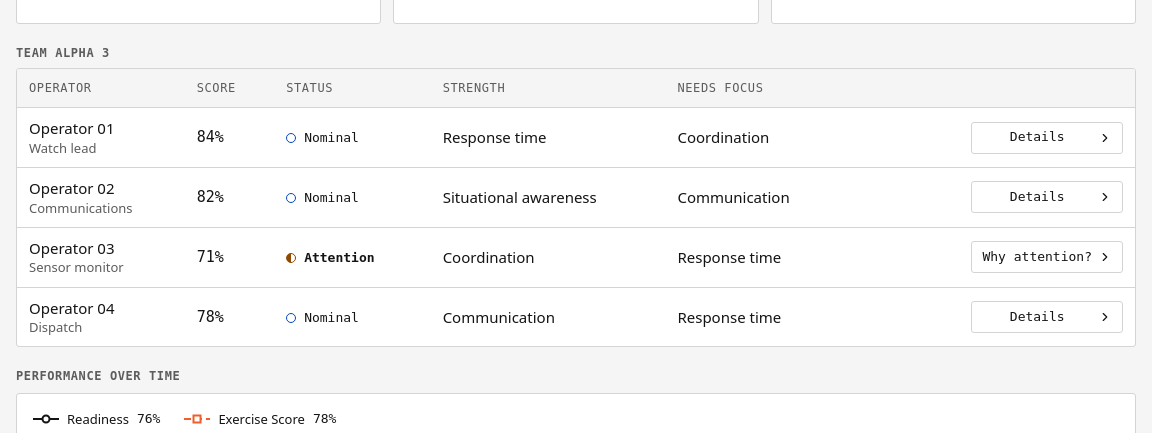
it: operator panel › jumps the whole app to a cause
The image size is (1152, 433).
(page scrolled)
What coordinates should you click on to do the following:
click the button named "Why attention? Operator 03"
I would click on:
 (1047, 257)
Its box is [971,241,1123,273].
(page scrolled)
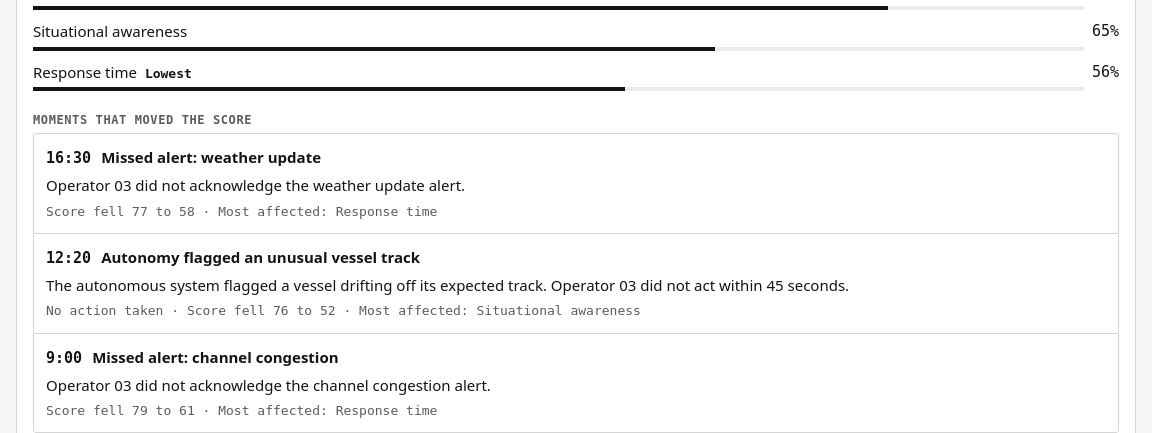
What coordinates should you click on to do the following:
click the button with aria-label "Show 12:20 on the timeline"
I would click on:
 (233, 258)
Its box is [46,246,420,270].
(page scrolled)
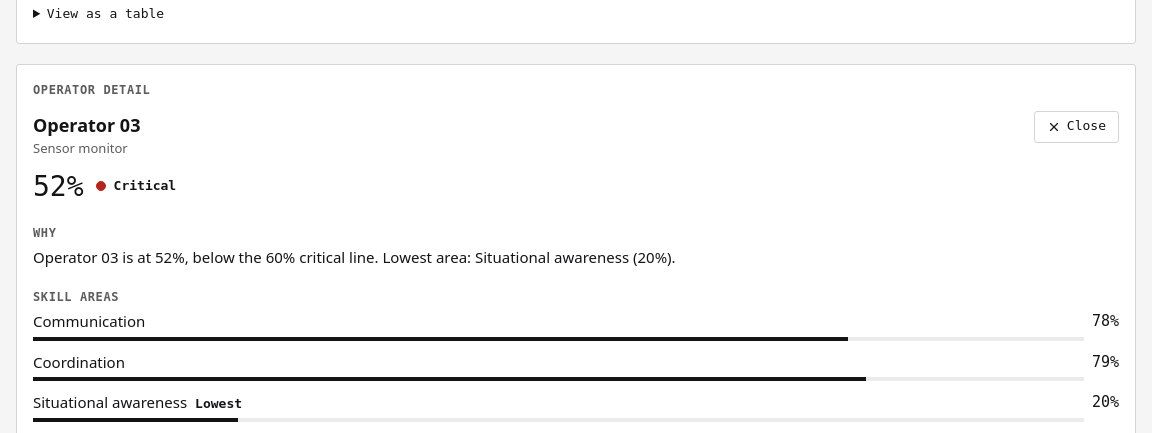
expect the text "below the 60% critical line" is shown: met, box [33,247,676,267]
